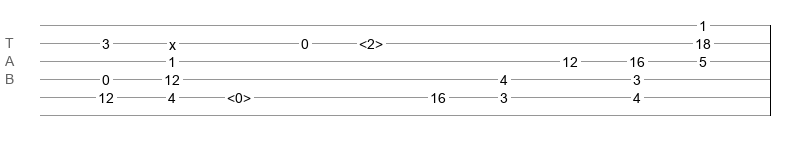0: (102, 72, 110, 82), (301, 36, 309, 46)
1: (168, 54, 176, 64), (699, 18, 707, 28)
12: (98, 90, 114, 100), (164, 72, 180, 82), (562, 54, 578, 64)
16: (430, 90, 446, 100), (629, 54, 645, 64)
18: (695, 36, 711, 46)
3: (102, 36, 110, 46), (500, 90, 508, 100), (633, 72, 641, 82)
4: (168, 90, 176, 100), (500, 72, 508, 82), (633, 90, 641, 100)
5: (699, 54, 707, 64)
harmonic: (227, 90, 251, 100), (359, 36, 383, 46)
x: (169, 37, 176, 45)
